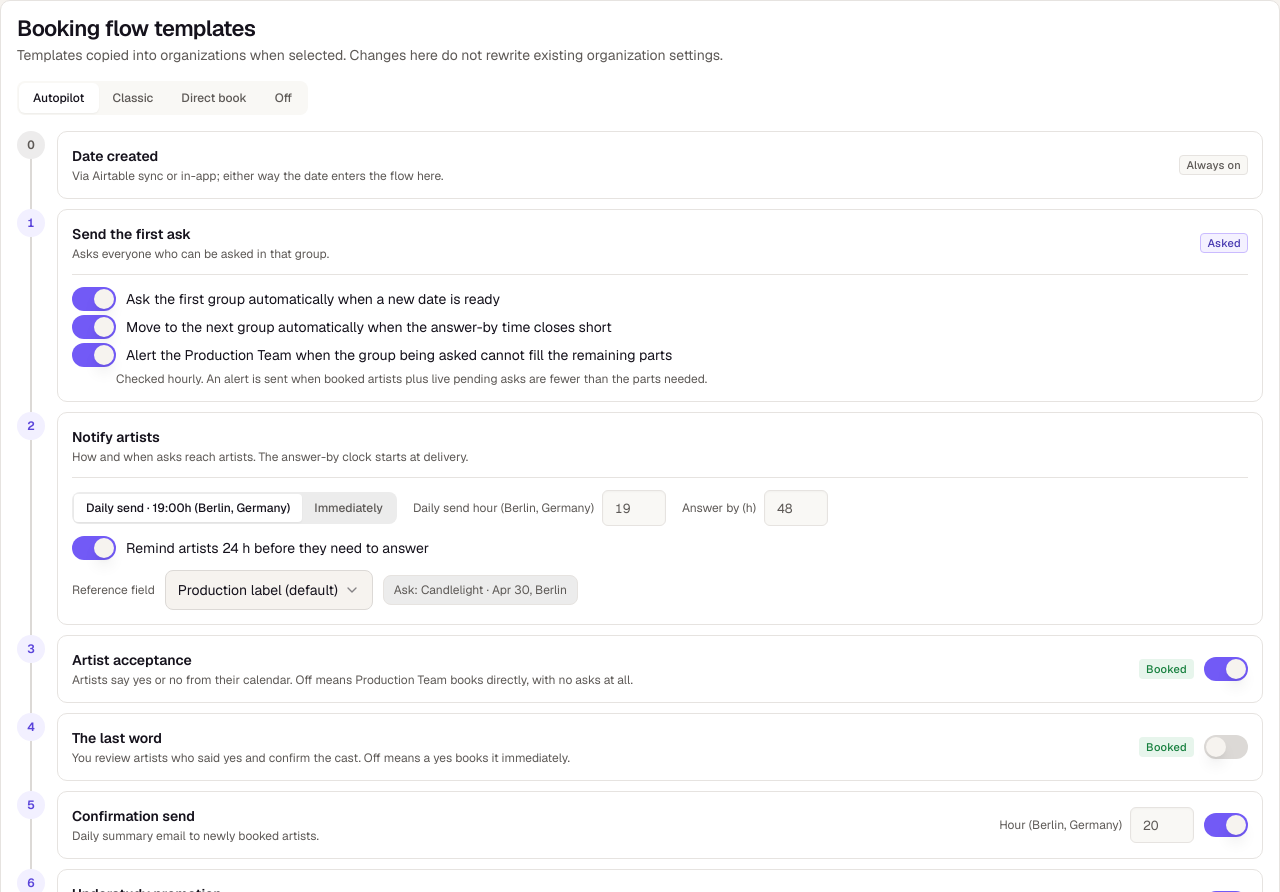
Test: BookingTemplatesDefaultsCard › blocks saving an invalid Daily send hour (Berlin, Germany)
The width and height of the screenshot is (1280, 892).
Replace the text in the number field labelled "Daily send hour (Berlin, Germany)" with "24": (634, 508) x1=602 y1=490 x2=666 y2=526
(page scrolled)
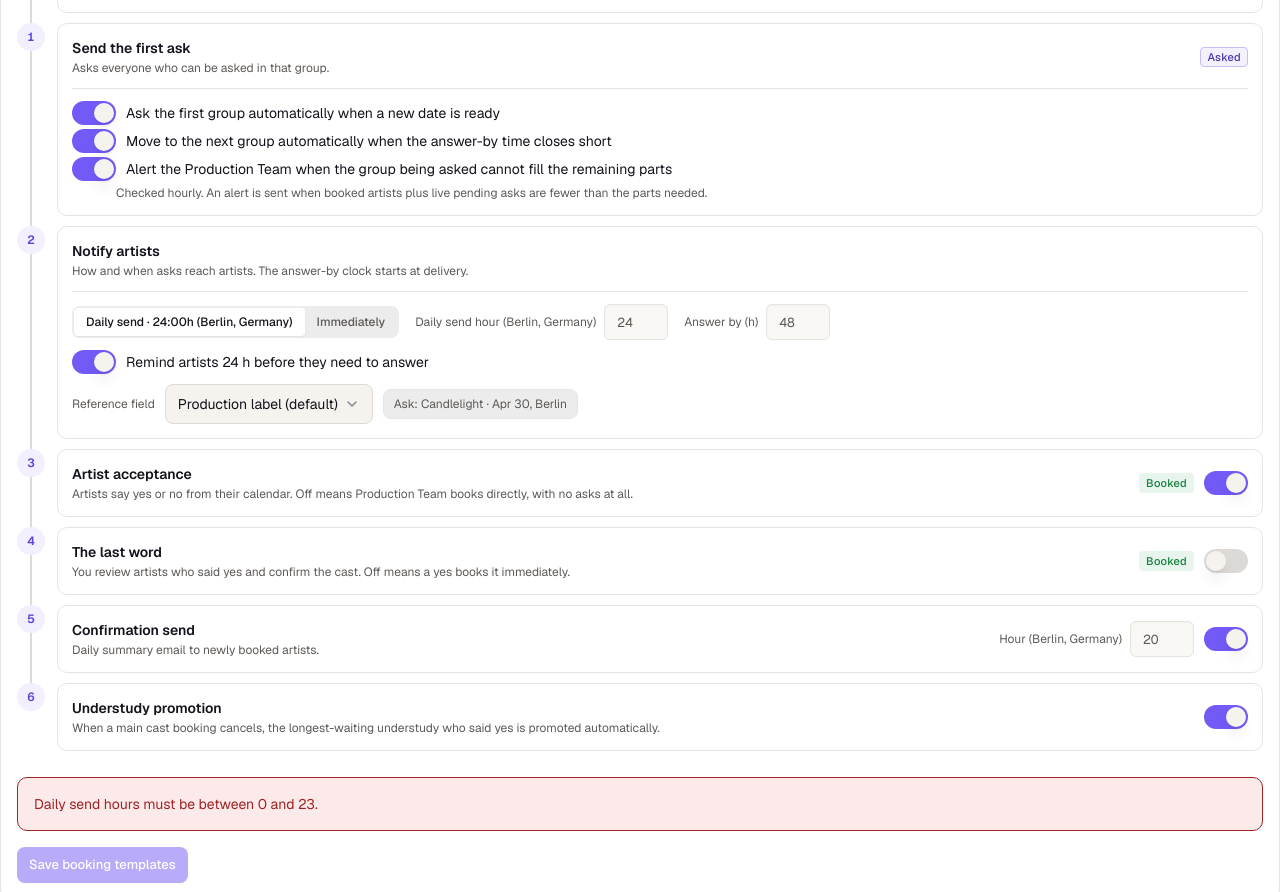
Expected: the text "Daily send hours must be between 0 and 23." is shown, x1=34 y1=795 x2=318 y2=813
Expected: the button "Save booking templates" is disabled, x1=17 y1=847 x2=188 y2=883
